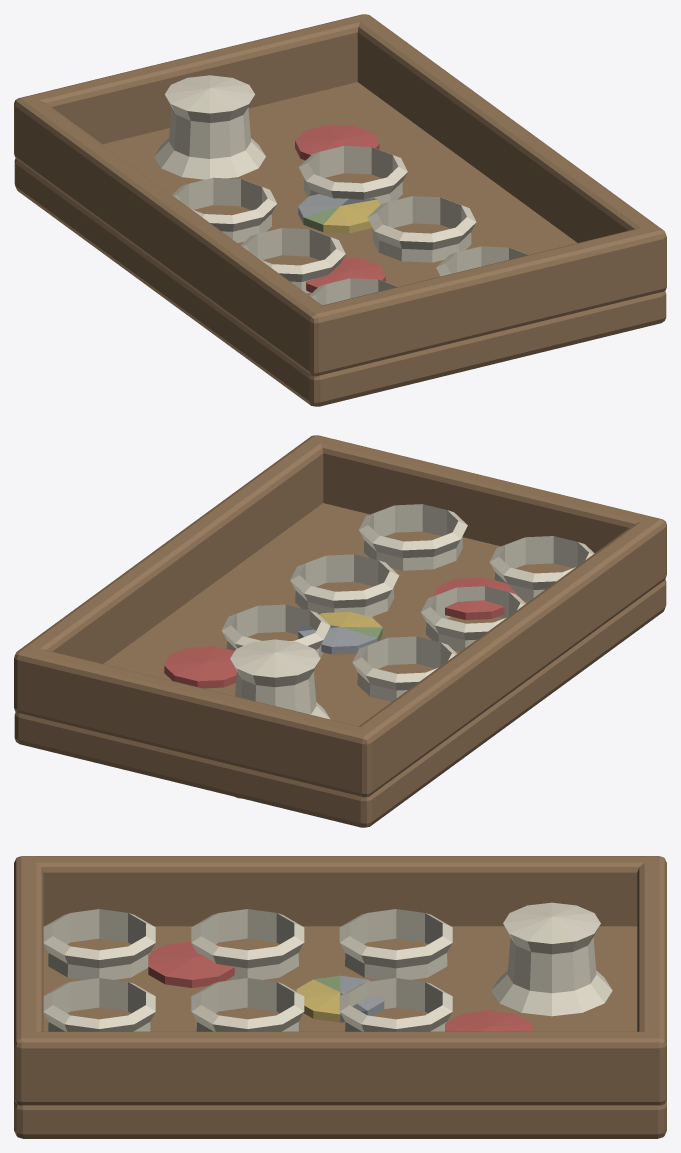
The model's file is monastery_pigment_tray.glb.
3 renders of one model, top to bottom at view 1: azimuth 30°, elevation 25°; view 2: azimuth 150°, elevation 25°; view 3: azimuth 270°, elevation 25°, orthographic. The views are drawn at different scales.
Parts seen in each view (by area): view 1: world; view 2: world; view 3: world.
Part boxes in pixels (x1,y1,x2,y2): world: [14, 14, 666, 406]; world: [14, 435, 666, 827]; world: [14, 856, 666, 1138].
Size of the model in its own units: 1.36 by 0.4317 by 2.
